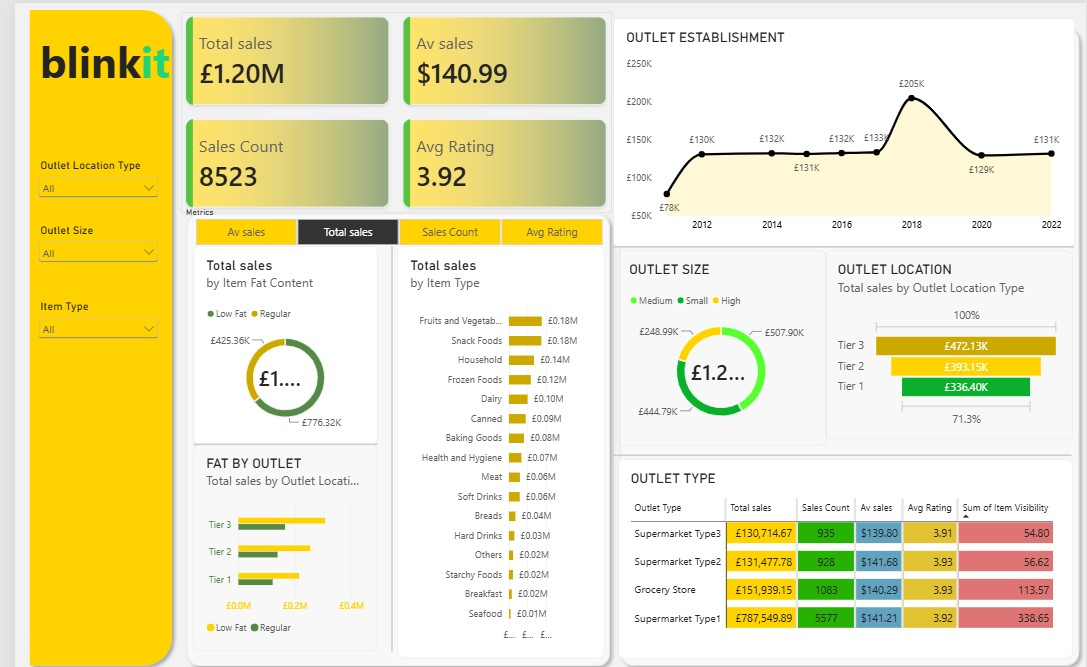

The page's visual inventory and layout, read from the dashboard file:
{"tool":"powerbi","page":{"name":"Page 1","canvas":[1400,900],"ordinal":0},"visuals":[{"type":"shape","box":[10.6,0,204.5,875.4],"z":0},{"type":"textbox","box":[0,37.4,235,89.4],"z":1000},{"type":"cardVisual","fields":{"Data":["BlinkIT Grocery Data.Total sales","BlinkIT Grocery Data.Av sales","BlinkIT Grocery Data.Sales Count","BlinkIT Grocery Data.Avg Rating"]},"box":[214.6,8.4,570,270],"z":2000},{"type":"shape","box":[215.1,266.2,570.8,609.1],"z":3000},{"type":"donutChart","fields":{"Category":["BlinkIT Grocery Data.Item Fat Content"],"Y":["BlinkIT Grocery Data.Total sales"]},"box":[234.3,317.3,240.7,259.8],"z":4000},{"type":"slicer","fields":{"Values":["Metrics.Metrics"]},"box":[215.1,266.2,570.8,51.1],"z":5000},{"type":"clusteredBarChart","title":"FAT BY OUTLET","fields":{"Category":["BlinkIT Grocery Data.Outlet Location Type"],"Series":["BlinkIT Grocery Data.Item Fat Content"],"Y":["BlinkIT Grocery Data.Total sales"]},"box":[234.3,577.2,240.7,270.5],"z":6000},{"type":"shape","box":[234.3,570.8,240.7,12.8],"z":7000},{"type":"shape","box":[483.5,317.3,17,530.3],"z":8000},{"type":"barChart","fields":{"Category":["BlinkIT Grocery Data.Item Type"],"Y":["BlinkIT Grocery Data.Total sales"]},"box":[500.5,317.3,270.5,538.8],"z":8001},{"type":"shape","box":[781.6,23.4,617.7,851.9],"z":8002},{"type":"lineChart","title":"OUTLET ESTABLISHMENT","fields":{"Category":["BlinkIT Grocery Data.Outlet Establishment Year"],"Y":["BlinkIT Grocery Data.Total sales"]},"box":[781.6,19.2,602.7,300.3],"z":8003},{"type":"donutChart","title":"OUTLET SIZE","fields":{"Category":["BlinkIT Grocery Data.Outlet Size"],"Y":["BlinkIT Grocery Data.Total sales"]},"box":[785.4,324.1,274.4,254.5],"z":8004},{"type":"funnel","title":"OUTLET LOCATION","fields":{"Category":["BlinkIT Grocery Data.Outlet Location Type"],"Y":["BlinkIT Grocery Data.Total sales"]},"box":[1059.7,324.1,324.1,246.5],"z":8005},{"type":"pivotTable","title":"OUTLET TYPE","fields":{"Rows":["BlinkIT Grocery Data.Outlet Type"],"Values":["BlinkIT Grocery Data.Total sales","BlinkIT Grocery Data.Sales Count","BlinkIT Grocery Data.Av sales","BlinkIT Grocery Data.Avg Rating","Sum(BlinkIT Grocery Data.Item Visibility)"]},"box":[787.4,596.5,594.5,260.5],"z":8006},{"type":"shape","box":[781.4,314.1,602.4,9.9],"z":8007},{"type":"shape","box":[779.4,586.5,602.4,9.9],"z":8008},{"type":"slicer","fields":{"Values":["BlinkIT Grocery Data.Outlet Location Type"]},"box":[25.8,204.8,167,61.6],"z":8009},{"type":"slicer","fields":{"Values":["BlinkIT Grocery Data.Outlet Size"]},"box":[25.8,288.3,167,61.6],"z":8010},{"type":"slicer","fields":{"Values":["BlinkIT Grocery Data.Item Type"]},"box":[25.8,387.7,167,61.6],"z":8011}]}

Visuals, with their boxes on the page's 1400x900 design canvas (x1, y1, x2, y2). These are canvas units, not pixel positions in the 1087x667 screenshot, which may show the page scaled, cropped or inside an application window:
shape: detection(11, 0, 215, 875)
textbox: detection(0, 37, 235, 127)
cardVisual - BlinkIT Grocery Data.Total sales x BlinkIT Grocery Data.Av sales: detection(215, 8, 785, 278)
shape: detection(215, 266, 786, 875)
donutChart - BlinkIT Grocery Data.Item Fat Content x BlinkIT Grocery Data.Total sales: detection(234, 317, 475, 577)
slicer - Metrics.Metrics: detection(215, 266, 786, 317)
"FAT BY OUTLET" clusteredBarChart: detection(234, 577, 475, 848)
shape: detection(234, 571, 475, 584)
shape: detection(484, 317, 500, 848)
barChart - BlinkIT Grocery Data.Item Type x BlinkIT Grocery Data.Total sales: detection(500, 317, 771, 856)
shape: detection(782, 23, 1399, 875)
"OUTLET ESTABLISHMENT" lineChart: detection(782, 19, 1384, 320)
"OUTLET SIZE" donutChart: detection(785, 324, 1060, 579)
"OUTLET LOCATION" funnel: detection(1060, 324, 1384, 571)
"OUTLET TYPE" pivotTable: detection(787, 596, 1382, 857)
shape: detection(781, 314, 1384, 324)
shape: detection(779, 586, 1382, 596)
slicer - BlinkIT Grocery Data.Outlet Location Type: detection(26, 205, 193, 266)
slicer - BlinkIT Grocery Data.Outlet Size: detection(26, 288, 193, 350)
slicer - BlinkIT Grocery Data.Item Type: detection(26, 388, 193, 449)
